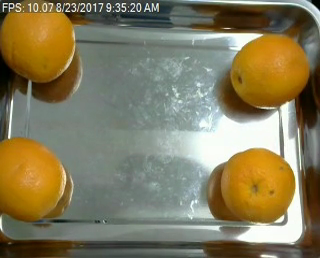Orange: (1, 1, 74, 84), (230, 34, 310, 109), (219, 147, 296, 222), (1, 136, 68, 220)
